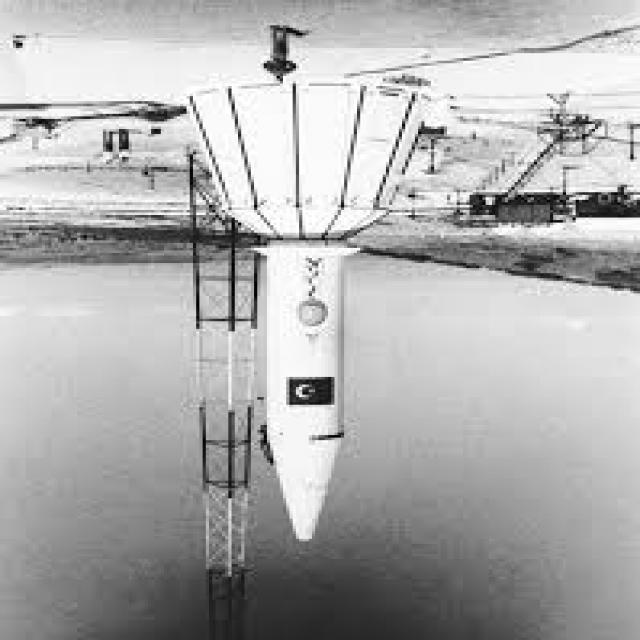missile: (242, 233, 366, 544)
